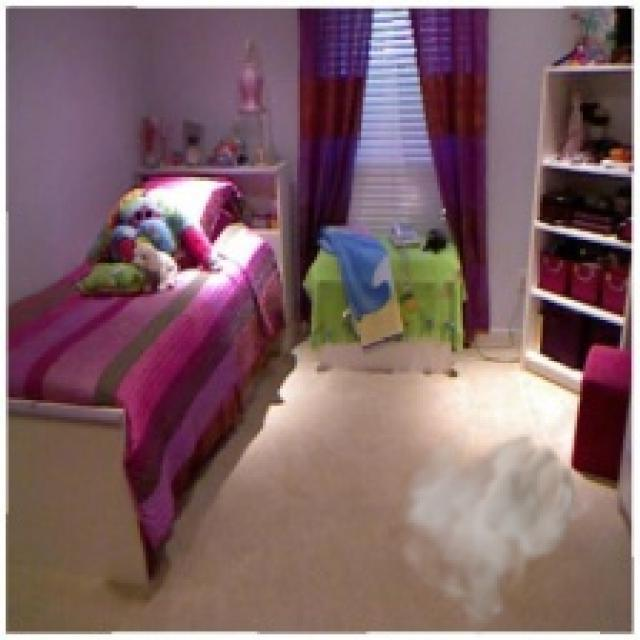Smoke: (394, 414, 597, 637)
